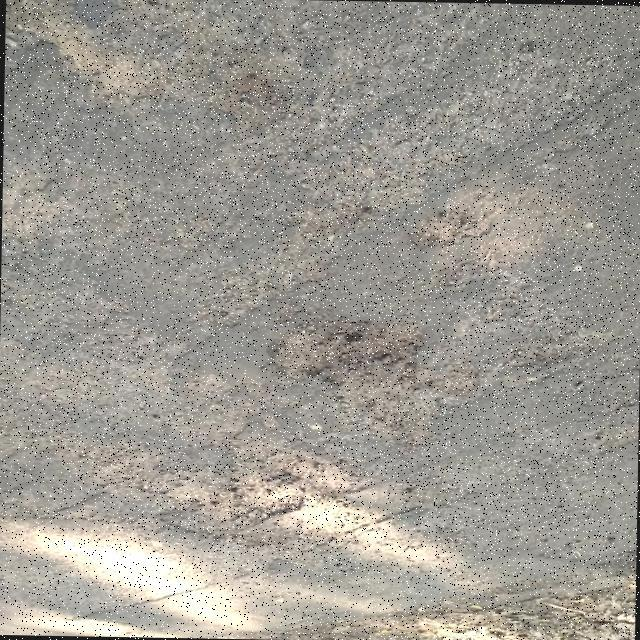Pothole: (267, 313, 479, 452), (152, 424, 392, 541)
